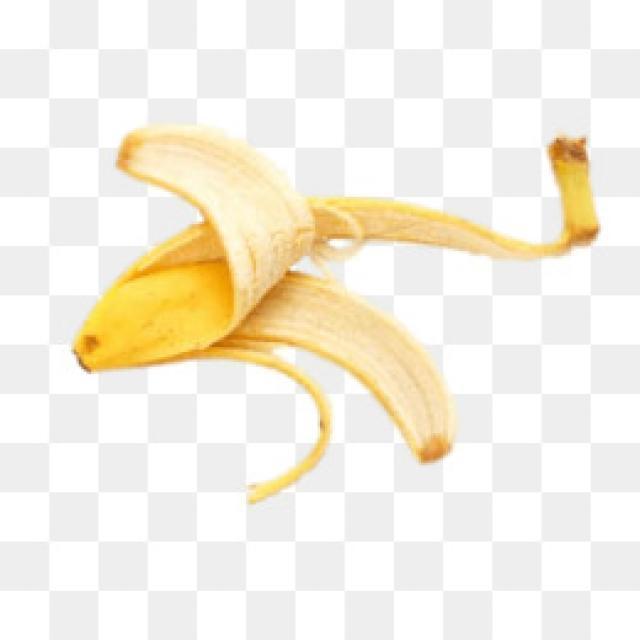banana-peel: (71, 121, 599, 503)
